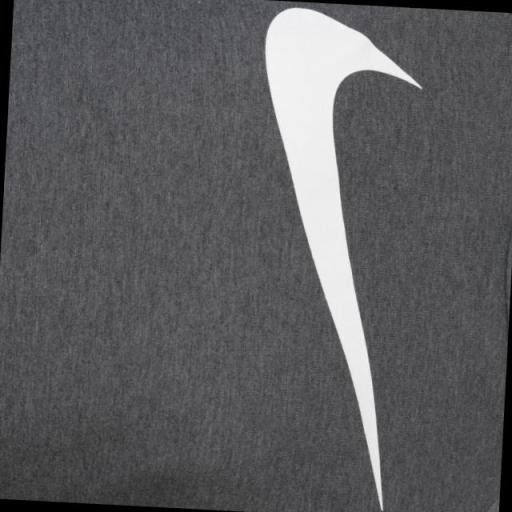Nike: (238, 4, 414, 512)
